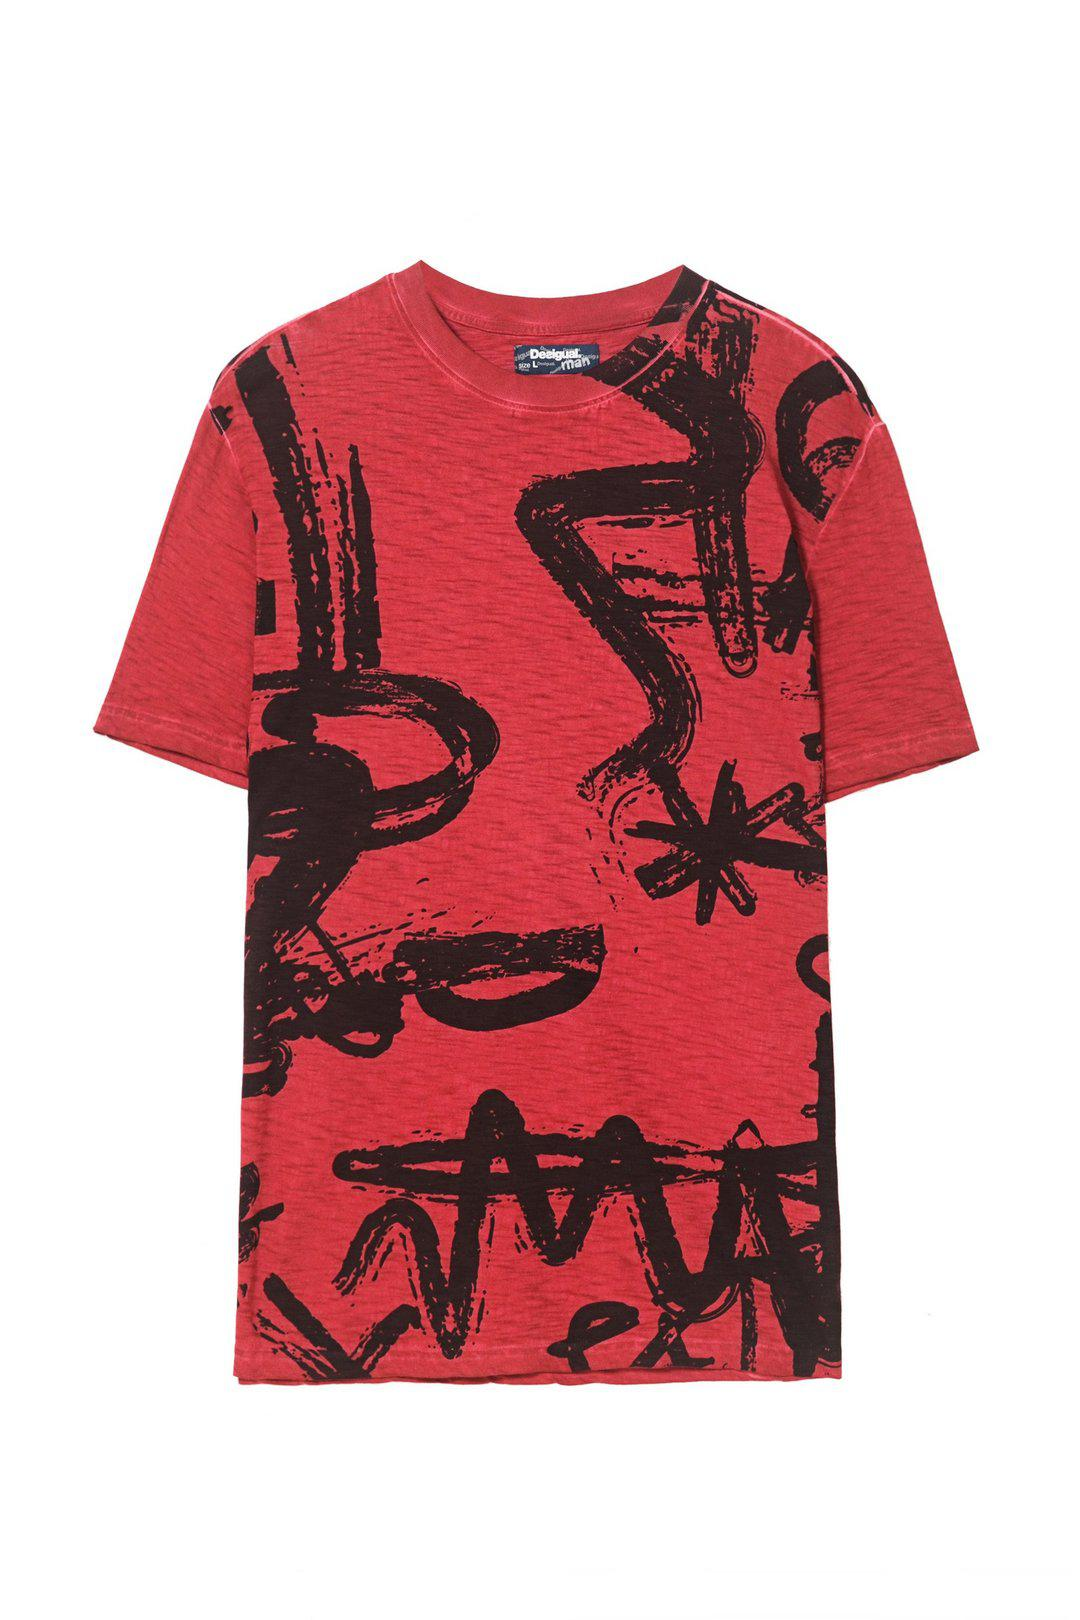teeshirt: (55, 231, 1038, 1450)
